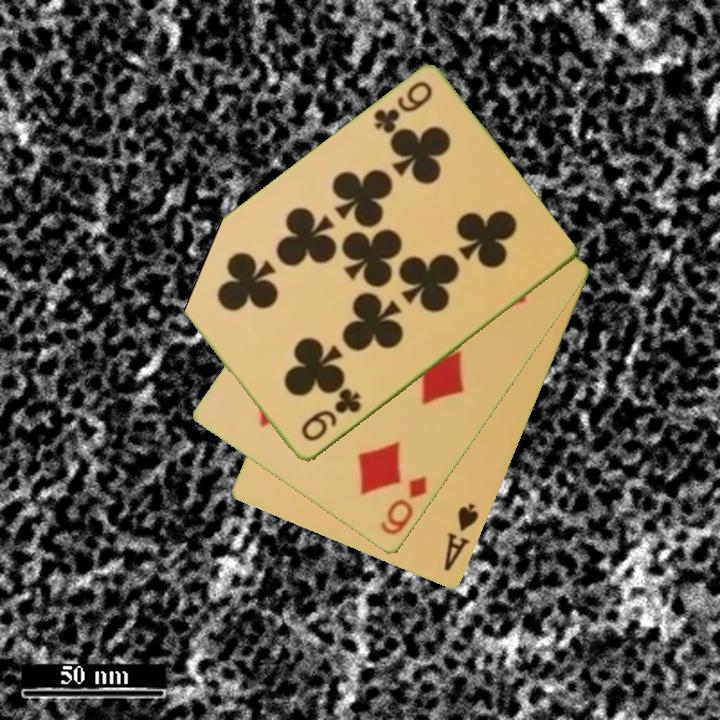6d: (377, 472, 430, 539)
9c: (297, 386, 365, 445), (370, 78, 436, 138)
As: (440, 500, 482, 575)
